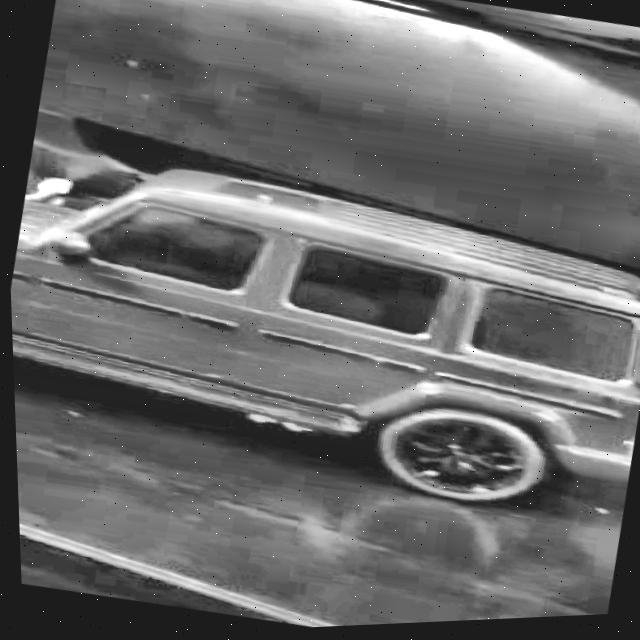light_vehicle: (4, 118, 640, 553)
